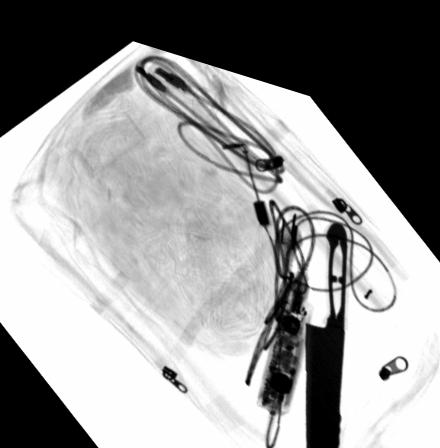Knife: (304, 198, 348, 448)
